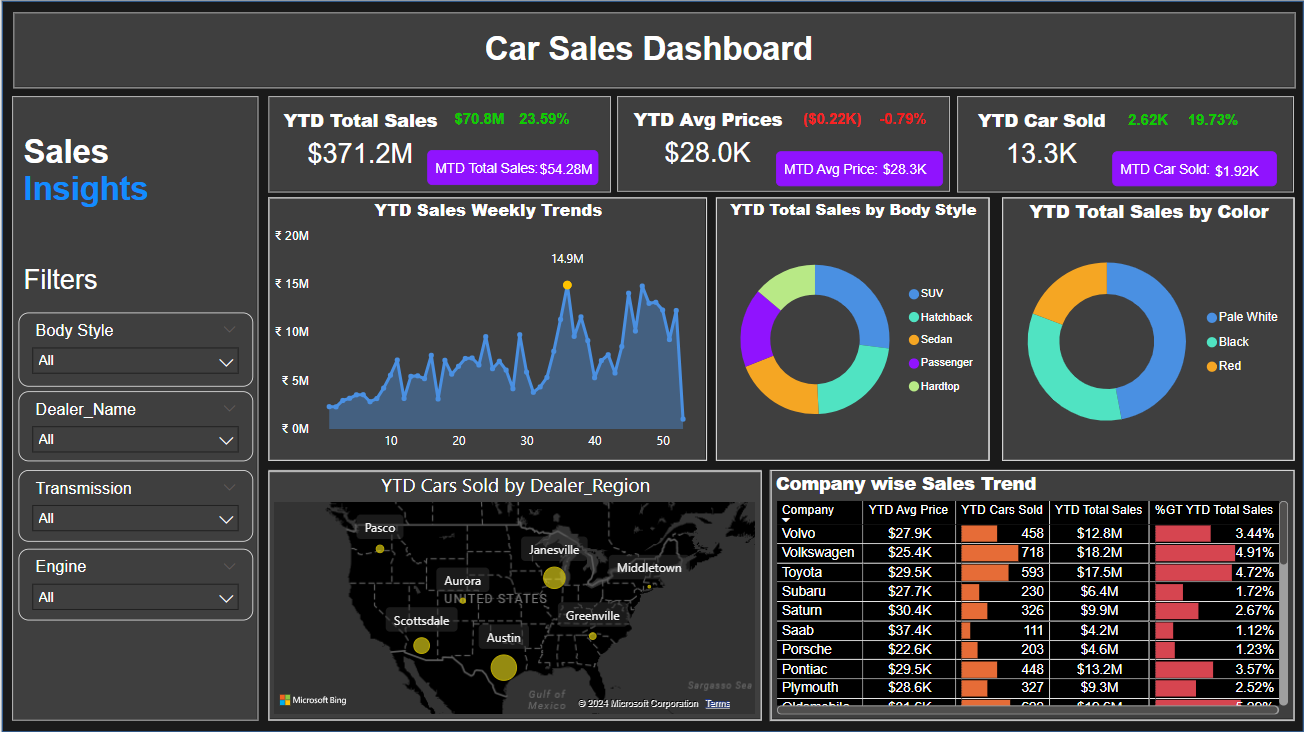

The page's visual inventory and layout, read from the dashboard file:
{"tool":"powerbi","page":{"name":"Page 2","canvas":[1280,720],"ordinal":1},"visuals":[{"type":"shape","box":[0,0,1280,720],"z":0},{"type":"shape","box":[598.7,94.7,332.7,98.7],"z":1000},{"type":"shape","box":[936.7,94.7,332,98.7],"z":2000},{"type":"shape","box":[265.3,94.7,328,98.7],"z":3000},{"type":"card","title":"YTD Total Sales","fields":{"Values":["car_data.YTD Total Sales"]},"box":[265,105,175.6,66.2],"z":4000},{"type":"card","title":"YTD Avg Prices","fields":{"Values":["car_data.YTD Avg Price"]},"box":[605.8,104.5,175.4,67.2],"z":5000},{"type":"card","title":"YTD Car Sold","fields":{"Values":["car_data.YTD Cars Sold"]},"box":[950.8,105,140.8,65],"z":6000},{"type":"shape","box":[12,12,1258,74],"z":7000},{"type":"shape","box":[11.4,94.3,241.4,612.9],"z":8000},{"type":"slicer","fields":{"Values":["car_data.Body Style"]},"box":[17.7,306.2,230,73.1],"z":9000},{"type":"slicer","fields":{"Values":["car_data.Dealer_Name"]},"box":[17.7,384.6,230,68.5],"z":10000},{"type":"slicer","fields":{"Values":["car_data.Transmission"]},"box":[17.7,461.5,230,70.8],"z":11000},{"type":"slicer","fields":{"Values":["car_data.Engine"]},"box":[17.7,538.5,230,70],"z":12000},{"type":"textbox","box":[418,153.3,168,34.7],"z":13000},{"type":"textbox","box":[1091.3,152,161.3,34],"z":14000},{"type":"textbox","box":[760.7,152,164,34],"z":15000},{"type":"card","title":"MTD Total Sales","fields":{"Values":["car_data.MTD Total Sales"]},"box":[523.3,160,63.3,24.7],"z":16000},{"type":"card","title":"MTD Total Sales","fields":{"Values":["car_data.MTD Cars Sold"]},"box":[1182,157.3,62.7,25.3],"z":17000},{"type":"card","title":"MTD Total Sales","fields":{"Values":["car_data.MTD Avg Price"]},"box":[856,158.7,63.3,25.3],"z":18000},{"type":"card","fields":{"Values":["car_data.Sales Difference"]},"box":[440.7,106,63.3,26],"z":19000},{"type":"card","fields":{"Values":["car_data.YOY Sales Growth"]},"box":[522.7,104.7,63.3,26],"z":20000},{"type":"card","fields":{"Values":["car_data.Avg Price Diff"]},"box":[780.8,104.8,71.2,26],"z":21000},{"type":"card","fields":{"Values":["car_data.YOY Avg Price Growth"]},"box":[857.3,105.3,67.3,26],"z":22000},{"type":"card","fields":{"Values":["car_data.Car Sold Diff"]},"box":[1108.7,106,63.3,25.3],"z":23000},{"type":"card","fields":{"Values":["car_data.YoY Car Sold Growth"]},"box":[1189.3,106,63.3,25.3],"z":24000},{"type":"textbox","box":[470,26,346,51],"z":25000},{"type":"textbox","box":[17.8,255.6,104.4,40],"z":26000},{"type":"textbox","box":[17.8,126.7,177.8,84.4],"z":27000},{"type":"shape","box":[265,200,1005,508.3],"z":28000},{"type":"tableEx","fields":{"Values":["car_data.Car_id","car_data.Date (bins)","car_data.Customer Name","car_data.Dealer_Name","car_data.Company","car_data.Color","car_data.Model","car_data.Total Sales"]},"box":[265,200,1005,508.3],"z":29000}]}

Visuals, with their boxes in screenshot pixels (x1, y1, x2, y2), scaled from the page's 1280x720 canvas onto the 1304x732 screenshot:
shape: (x1=0, y1=0, x2=1303, y2=731)
shape: (x1=610, y1=96, x2=949, y2=197)
shape: (x1=954, y1=96, x2=1292, y2=197)
shape: (x1=270, y1=96, x2=604, y2=197)
"YTD Total Sales" card: (x1=270, y1=107, x2=449, y2=174)
"YTD Avg Prices" card: (x1=617, y1=106, x2=796, y2=175)
"YTD Car Sold" card: (x1=969, y1=107, x2=1112, y2=173)
shape: (x1=12, y1=12, x2=1294, y2=87)
shape: (x1=12, y1=96, x2=258, y2=719)
slicer - car_data.Body Style: (x1=18, y1=311, x2=252, y2=386)
slicer - car_data.Dealer_Name: (x1=18, y1=391, x2=252, y2=461)
slicer - car_data.Transmission: (x1=18, y1=469, x2=252, y2=541)
slicer - car_data.Engine: (x1=18, y1=547, x2=252, y2=619)
textbox: (x1=426, y1=156, x2=597, y2=191)
textbox: (x1=1112, y1=155, x2=1276, y2=189)
textbox: (x1=775, y1=155, x2=942, y2=189)
"MTD Total Sales" card: (x1=533, y1=163, x2=598, y2=188)
"MTD Total Sales" card: (x1=1204, y1=160, x2=1268, y2=186)
"MTD Total Sales" card: (x1=872, y1=161, x2=937, y2=187)
card - car_data.Sales Difference: (x1=449, y1=108, x2=513, y2=134)
card - car_data.YOY Sales Growth: (x1=533, y1=106, x2=597, y2=133)
card - car_data.Avg Price Diff: (x1=795, y1=107, x2=868, y2=133)
card - car_data.YOY Avg Price Growth: (x1=873, y1=107, x2=942, y2=133)
card - car_data.Car Sold Diff: (x1=1129, y1=108, x2=1194, y2=133)
card - car_data.YoY Car Sold Growth: (x1=1212, y1=108, x2=1276, y2=133)
textbox: (x1=479, y1=26, x2=831, y2=78)
textbox: (x1=18, y1=260, x2=124, y2=301)
textbox: (x1=18, y1=129, x2=199, y2=215)
shape: (x1=270, y1=203, x2=1294, y2=720)
tableEx - car_data.Car_id x car_data.Date (bins): (x1=270, y1=203, x2=1294, y2=720)
